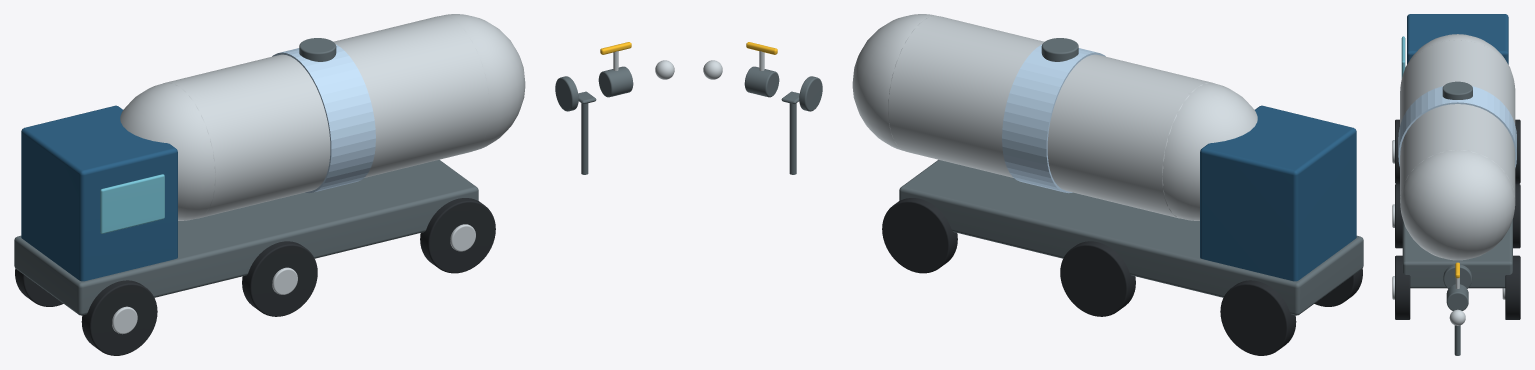
Rendered from truck.glb.
3 renders of one model, left to right at view 1: azimuth 30°, elevation 25°; view 2: azimuth 150°, elevation 25°; view 3: azimuth 270°, elevation 25°, orthographic. The views are drawn at different scales.
Parts seen in each view (by area): view 1: body, status; view 2: body, status; view 3: body, status.
Part boxes in pixels (bbox=[...]): body: bbox=[14, 14, 674, 355]; status: bbox=[272, 44, 375, 193]; body: bbox=[703, 14, 1363, 355]; status: bbox=[1002, 44, 1105, 193]; body: bbox=[1392, 14, 1520, 355]; status: bbox=[1398, 86, 1516, 167].
Bounding box in the file's own units: 7.04 × 2.42 × 1.51.
